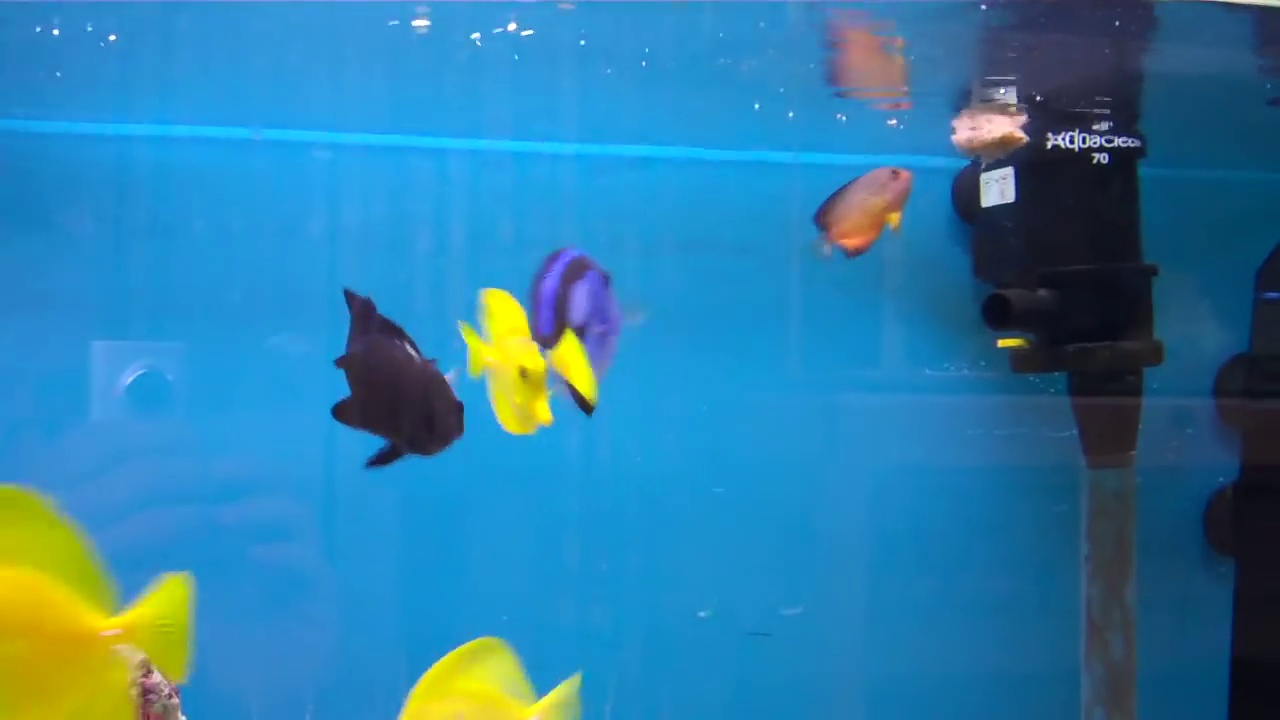saddle butterfly fish: (451, 273, 555, 436)
